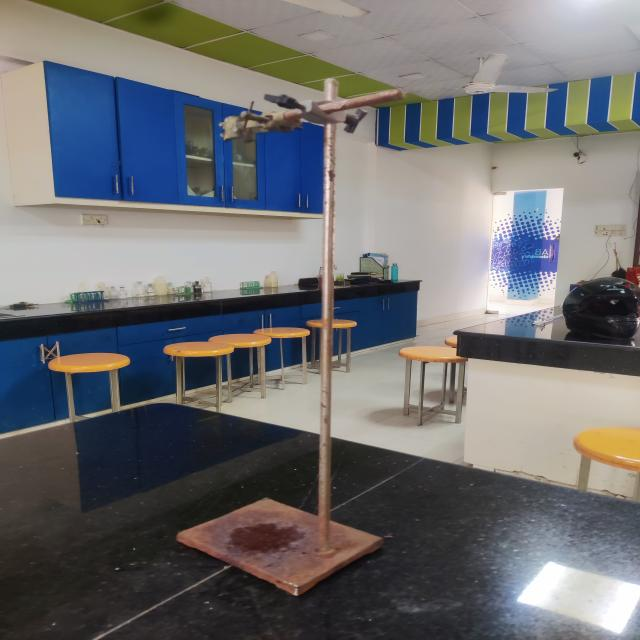Burette_Stands: (154, 59, 439, 616)
